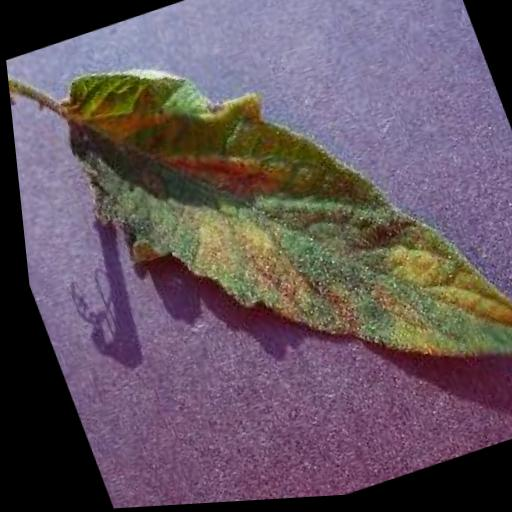Leaf Mold: (34, 0, 512, 485)
